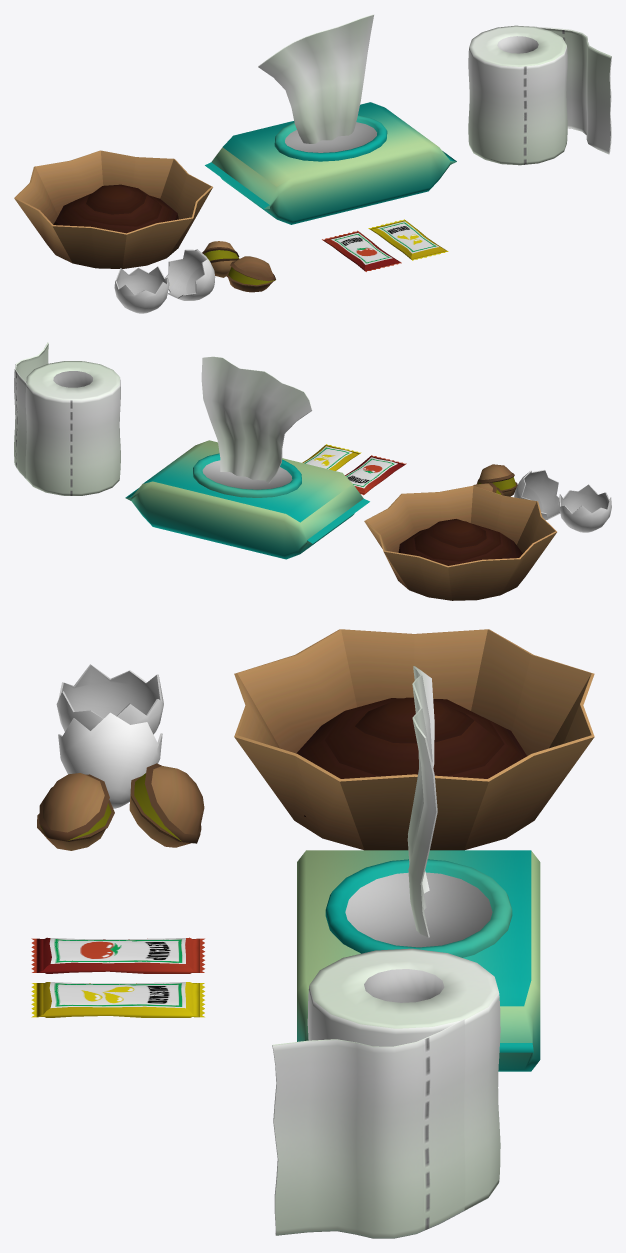
The model's file is trashItems-B5XDPsHk.glb.
3 renders of one model, top to bottom at view 1: azimuth 30°, elevation 25°; view 2: azimuth 150°, elevation 25°; view 3: azimuth 270°, elevation 25°, orthographic. The views are drawn at different scales.
Parts seen in each view (by area): view 1: Flushable Wipes, Grounds & Shells_01 - Default_0, Toilet Paper, Packet; view 2: Flushable Wipes, Grounds & Shells_01 - Default_0, Toilet Paper, Packet; view 3: Grounds & Shells_01 - Default_0, Toilet Paper, Flushable Wipes, Packet.
Boxes of the visible parts, <box> form: Flushable Wipes: <box>205,14,456,224</box>; Grounds & Shells_01 - Default_0: <box>14,150,275,313</box>; Toilet Paper: <box>468,25,611,165</box>; Packet: <box>322,219,448,271</box>; Flushable Wipes: <box>125,356,369,559</box>; Grounds & Shells_01 - Default_0: <box>364,464,611,600</box>; Toilet Paper: <box>14,342,120,495</box>; Packet: <box>302,444,406,495</box>; Grounds & Shells_01 - Default_0: <box>37,629,594,850</box>; Toilet Paper: <box>272,948,500,1238</box>; Flushable Wipes: <box>297,666,540,1071</box>; Packet: <box>31,937,204,1017</box>.
Bounding box in the file's own units: 529 × 152 × 244.
4 materials, 4 textured.
